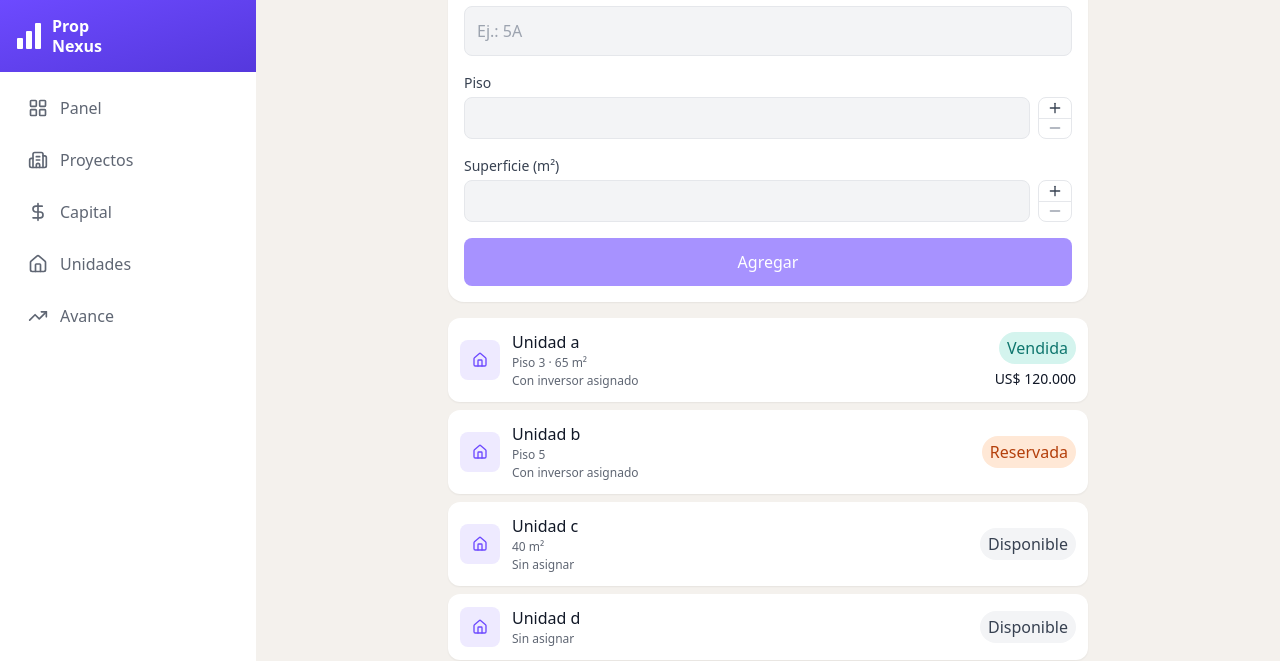
Scenario: /developer/project/$projectId/units › edición › tocar una unidad cambia el formulario a modo edición: sin referencia y con sus valores
The width and height of the screenshot is (1280, 661).
(page scrolled)
Click the button "Unidad a". click: (480, 360)
box: [448,318,1088,402]
(page scrolled)
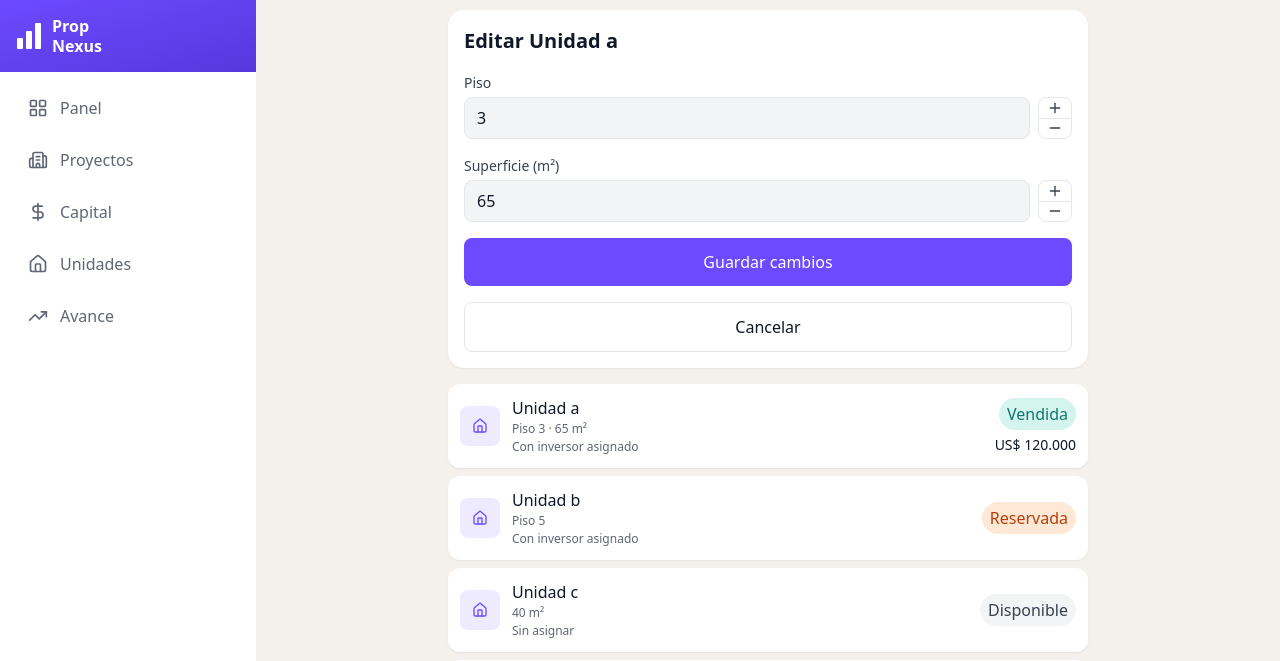
Now the form with test id "DEV-UNIT-UPDATE-003" is shown, box [448,10,1088,368]
Now the number field labelled "Piso" holds "3", box [464,97,1030,139]
Now the number field labelled "Superficie (m²)" holds "65", box [464,180,1030,222]
